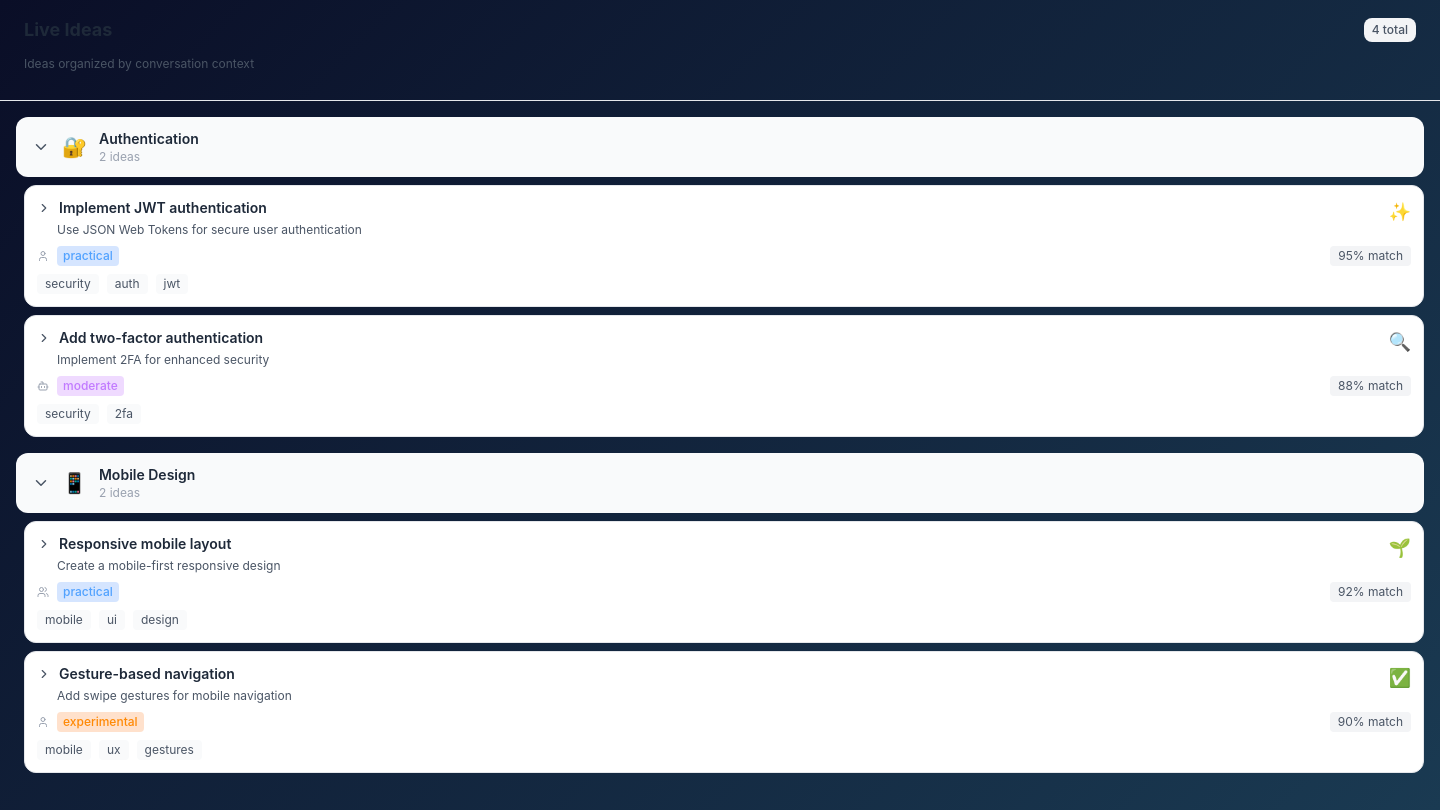
it: LiveIdeasPanel › Topic Expansion › should collapse topic when clicking header
The image size is (1440, 810).
Click the button "🔐 Authentication 2 ideas" at (149, 138), box 16,117 -> 1424,177
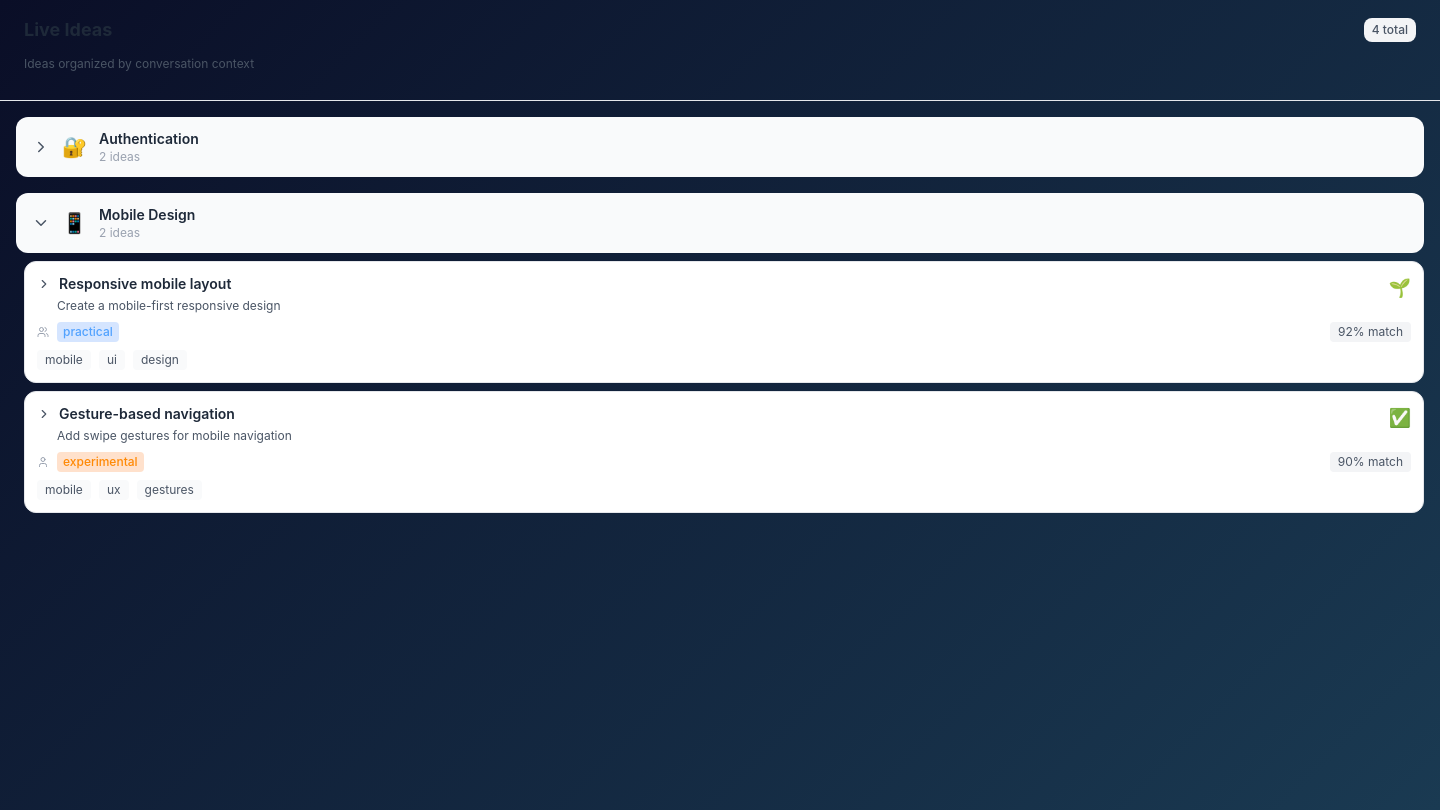
Check: the heading "Implement JWT authentication" is gone
